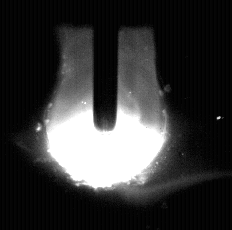arame: (94, 0, 119, 131)
poca: (46, 0, 168, 230)
